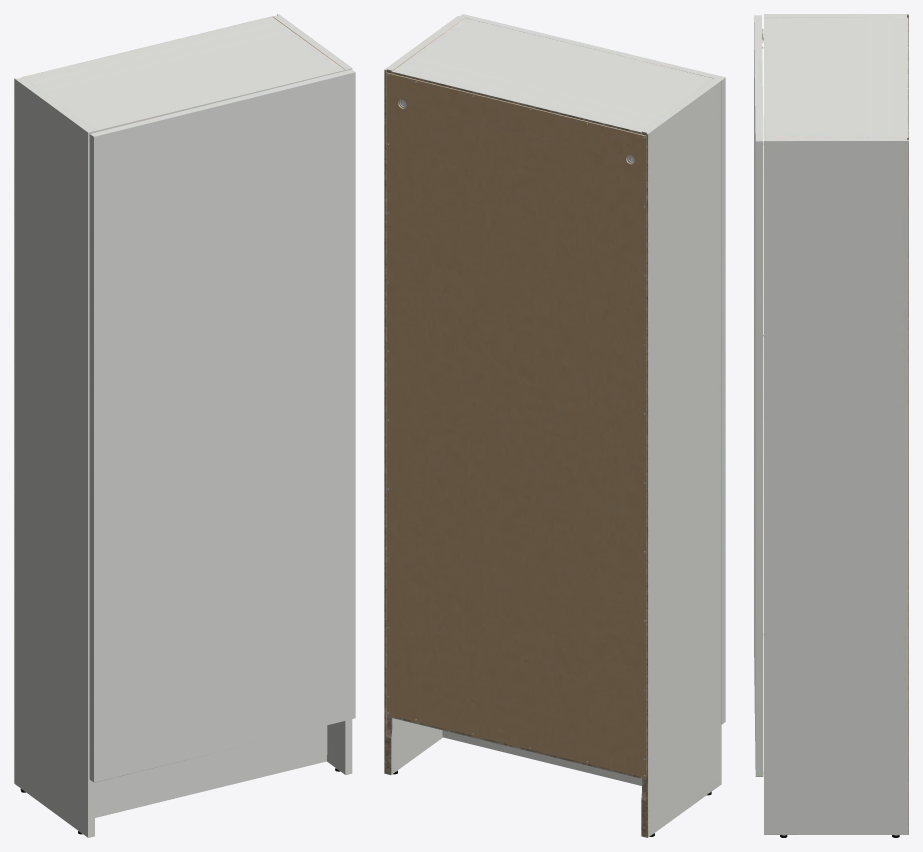
File: knoxhult-armario-alto-con-puerta-blanco.glb
The picture shows the model from 3 angles, left to right: view 1: azimuth 30°, elevation 25°; view 2: azimuth 150°, elevation 25°; view 3: azimuth 270°, elevation 25°; orthographic projection.
Parts seen in each view (by area): view 1: ASY_ART_40604079_S01_NV01; view 2: ASY_ART_40604079_S01_NV01; view 3: ASY_ART_40604079_S01_NV01.
Part boxes in pixels (x1,y1,x2,y2): ASY_ART_40604079_S01_NV01: [14, 14, 355, 837]; ASY_ART_40604079_S01_NV01: [384, 14, 725, 837]; ASY_ART_40604079_S01_NV01: [754, 14, 908, 837].
Bounding box in the file's own units: 0.5998 × 1.54 × 0.3093.
Materials: 2 (1 with a texture image).
